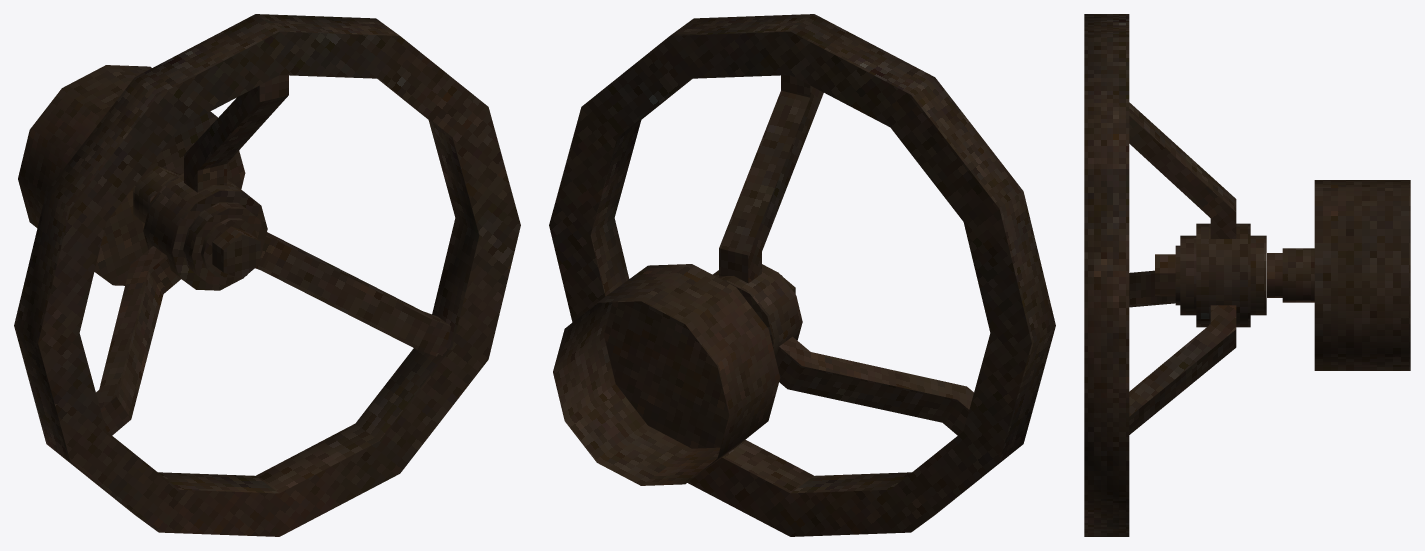
File: pipe_valve_holder_large_2.glb
3 views of the same model, side by side, from view 1: azimuth 30°, elevation 25°; view 2: azimuth 150°, elevation 25°; view 3: azimuth 270°, elevation 25° (orthographic). The views are drawn at different scales.
Visible parts, largest first — view 1: valve_mp_1, pipe_valve_holder_large_2; view 2: valve_mp_1, pipe_valve_holder_large_2; view 3: valve_mp_1, pipe_valve_holder_large_2.
Boxes of the visible parts, x1,y1,x2,y2 form: valve_mp_1: (14,14,520,536); pipe_valve_holder_large_2: (18,65,245,285); valve_mp_1: (549,14,1055,536); pipe_valve_holder_large_2: (553,264,780,485); valve_mp_1: (1084,14,1282,536); pipe_valve_holder_large_2: (1282,180,1410,370).
Bounding box in the file's own units: 0.3283 × 0.3283 × 0.2041.
1 material, 1 textured.
